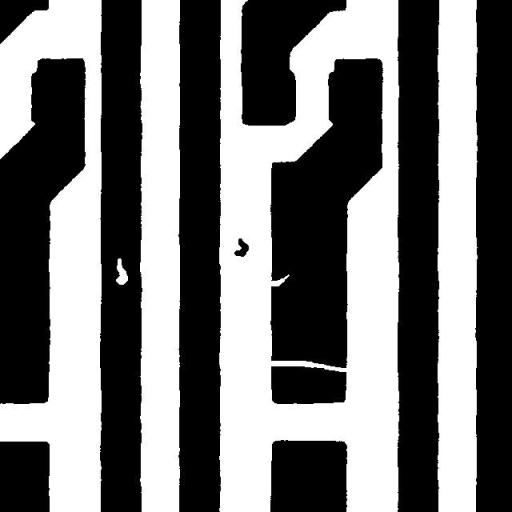copper: (226, 230, 256, 264)
mousebite: (258, 266, 296, 294)
open: (260, 353, 357, 379)
pin-hole: (108, 250, 135, 292)
